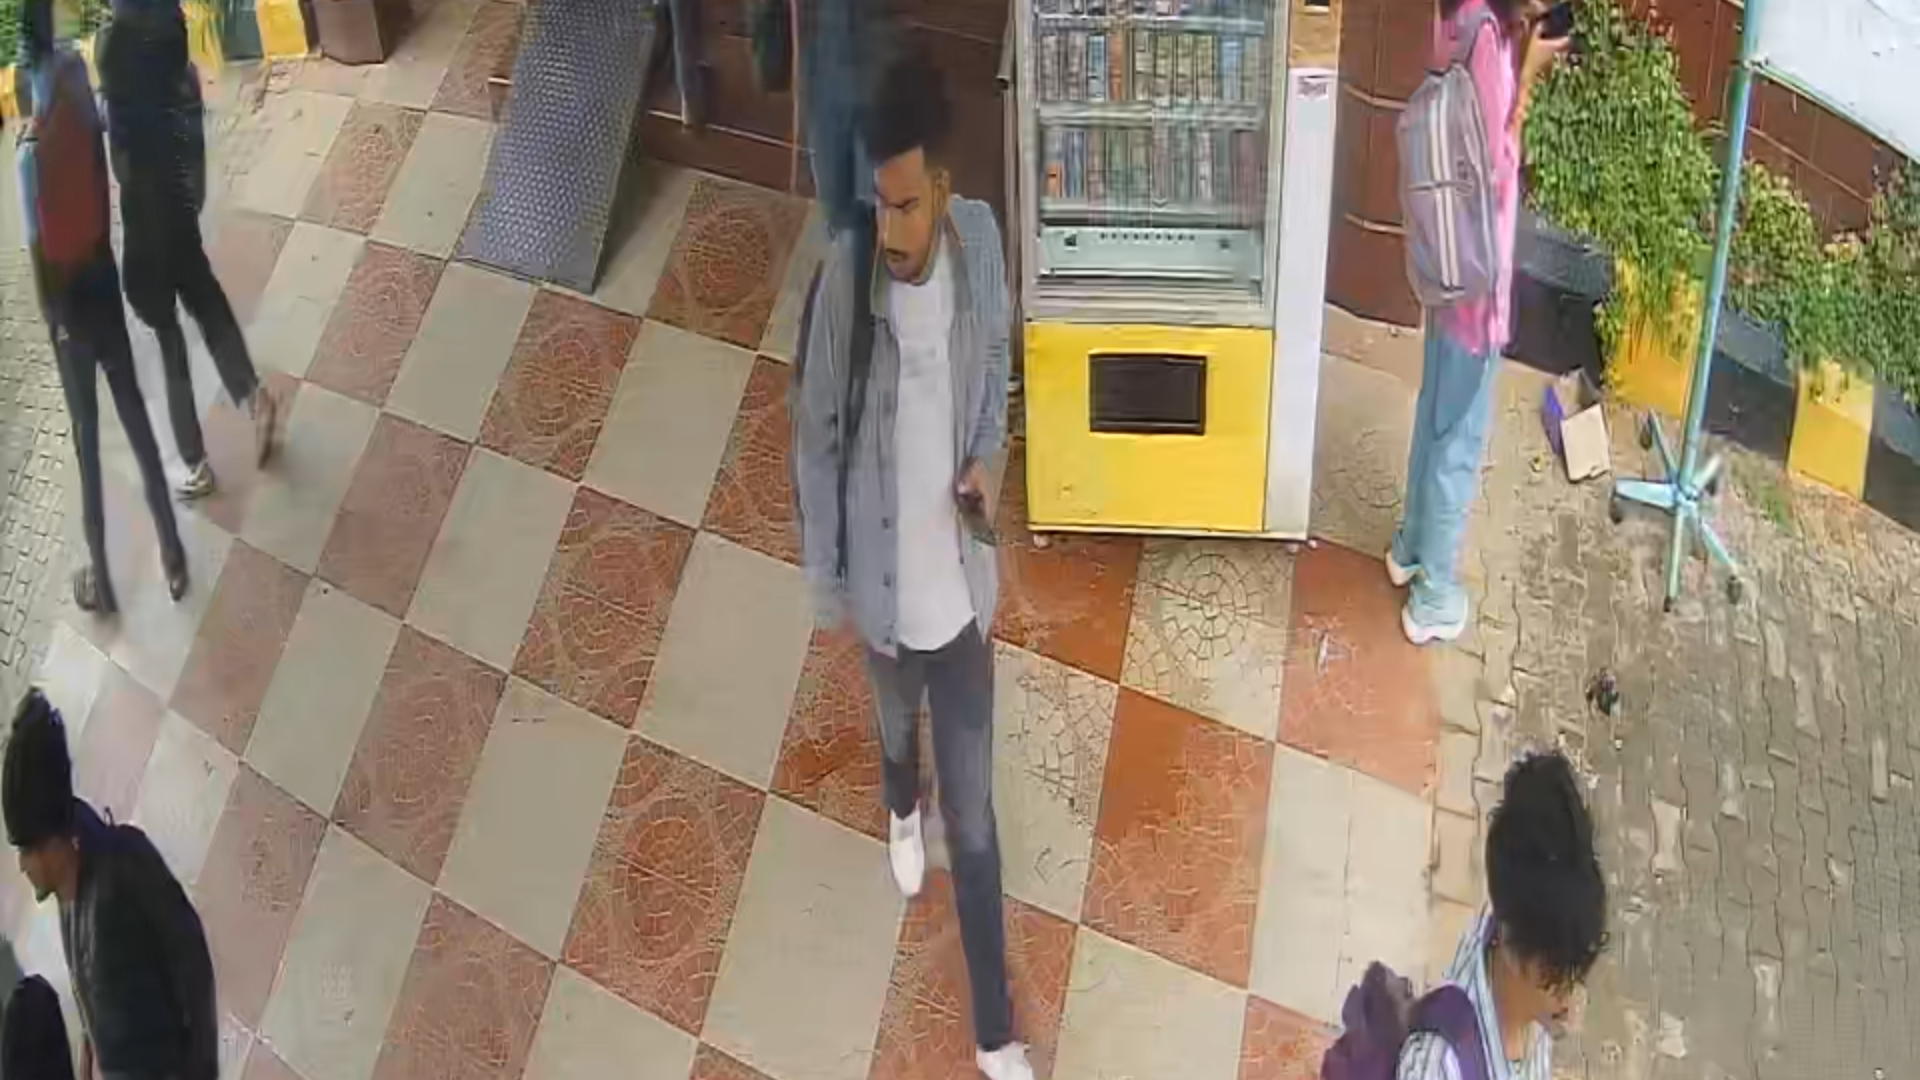intruder: (781, 54, 1084, 1080)
